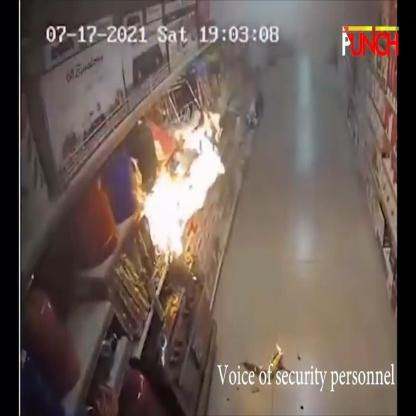fire: (144, 129, 224, 255), (276, 342, 282, 352)
